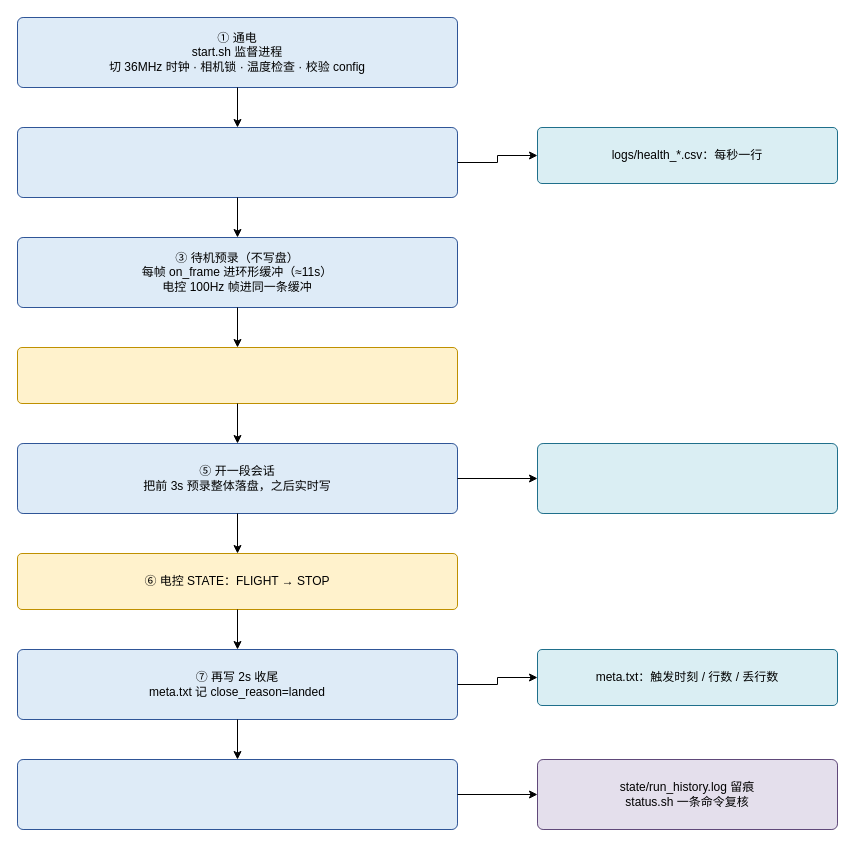
The diagram is 855 pixels wide and 847 high, and some of its shapes have lost their labels. Here are the shapes that lost their labels. From the top down, the box of each, then its label:
(16, 126, 458, 198): ② camera 启动 VI/ISP/VENC 就绪 写 run_history：tag=ready
(16, 346, 458, 404): ④ 电控 STATE：STATIC → FLIGHT
(536, 442, 838, 514): logs/sess_*/frames.csv 一帧一行 + 该帧电控数据（预录不丢开头）
(16, 758, 458, 830): ⑧ 退出（跑满时长 / stop.sh / 崩了） run_history：tag=exit reason=… 或 tag=crash sig=…
